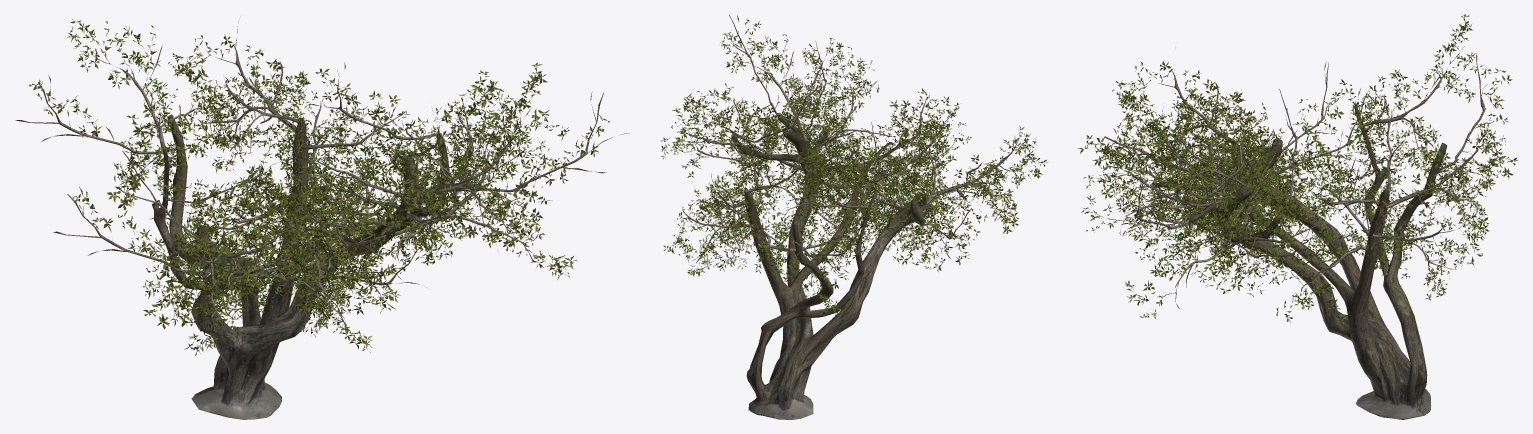
The model's file is island_tree_02.glb.
3 renders of one model, left to right at view 1: azimuth 30°, elevation 25°; view 2: azimuth 150°, elevation 25°; view 3: azimuth 270°, elevation 25°, orthographic. The views are drawn at different scales.
Parts seen in each view (by area): view 1: island_tree_02_LOD0; view 2: island_tree_02_LOD0; view 3: island_tree_02_LOD0.
Boxes of the visible parts, bbox=[...] form: island_tree_02_LOD0: bbox=[15, 19, 629, 419]; island_tree_02_LOD0: bbox=[661, 15, 1047, 419]; island_tree_02_LOD0: bbox=[1077, 14, 1517, 419].
Bounding box in the file's own units: 4.21 × 3.41 × 4.07.
Materials: 3 (3 with a texture image).
